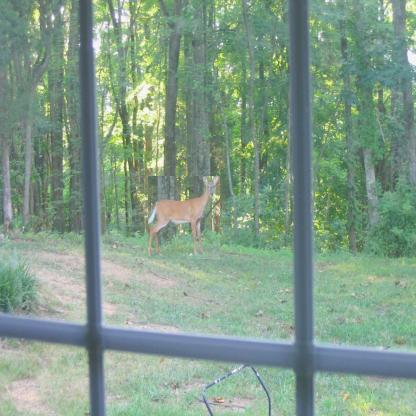Deer: (148, 176, 220, 259)
